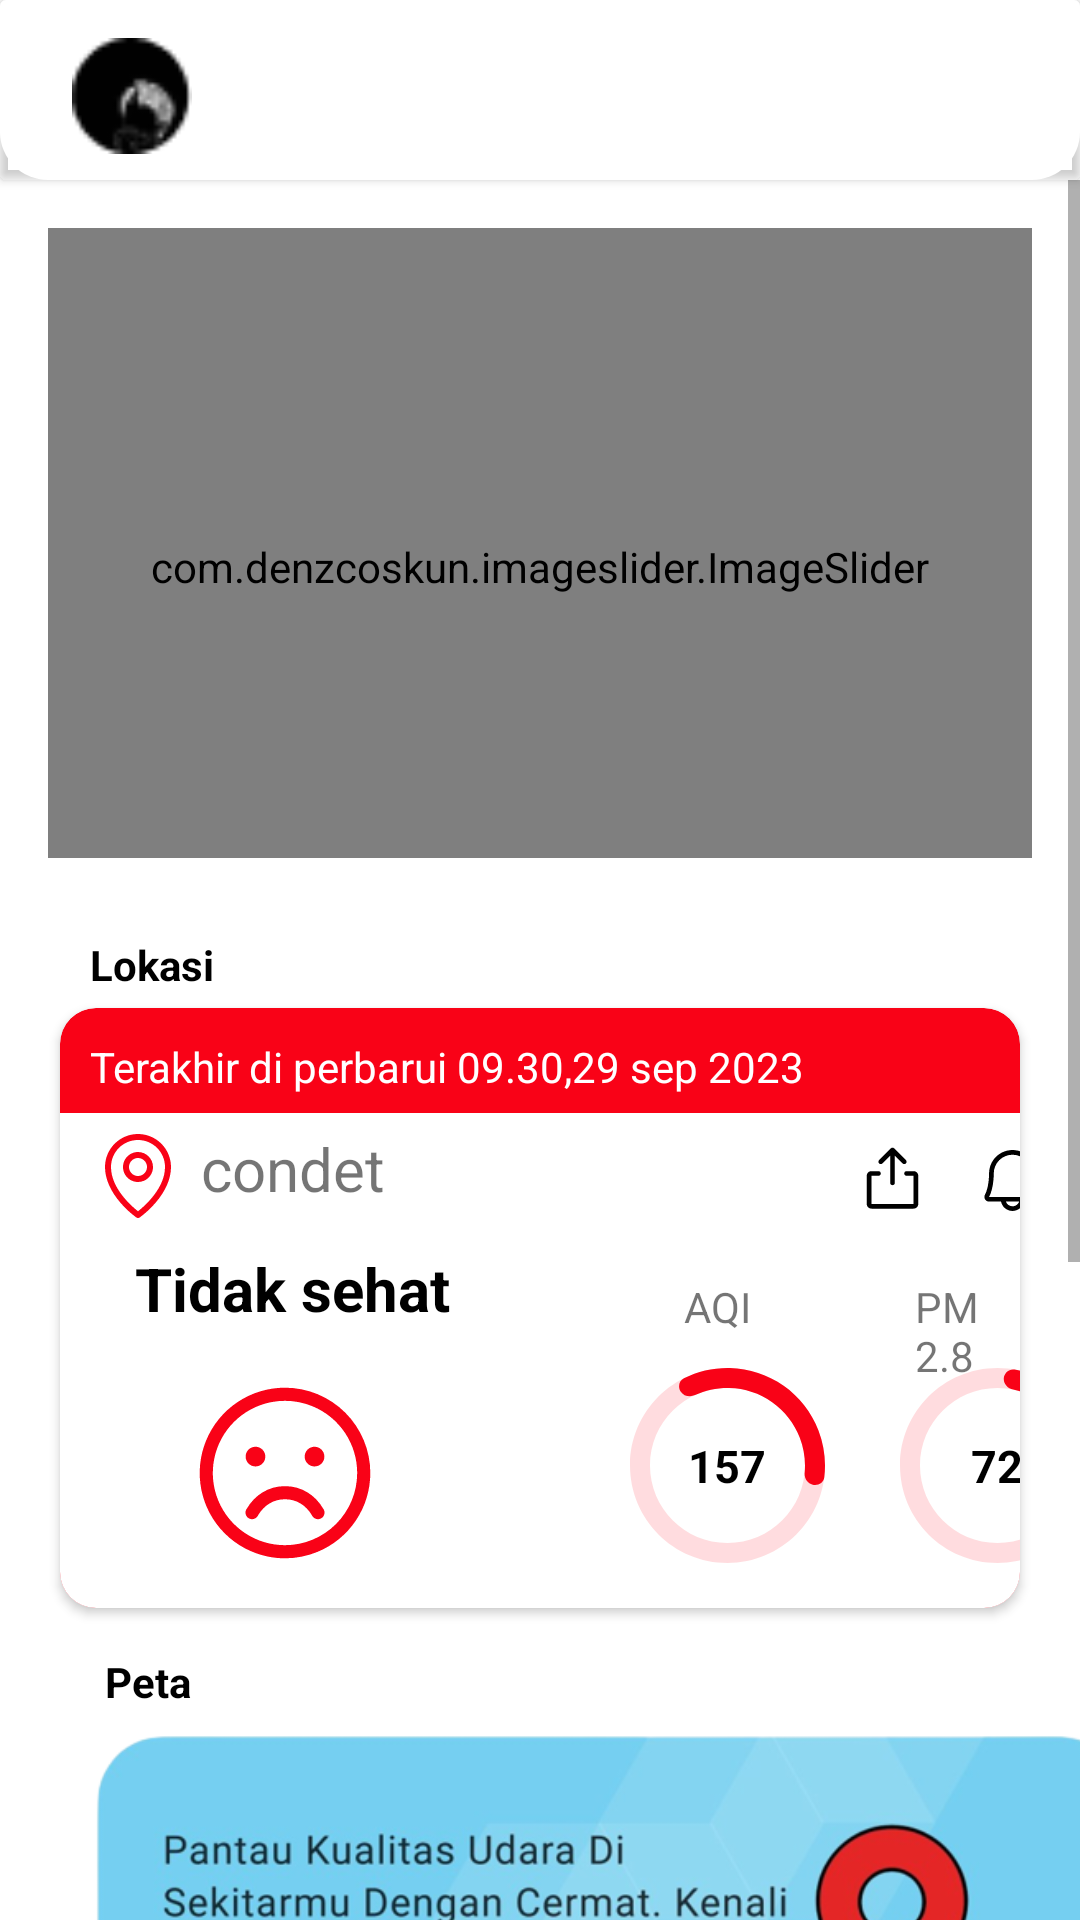

Point at icon controls on the screen. Image size 1080×1920, points as (x=x, y=y).
profile: (x=132, y=96)
